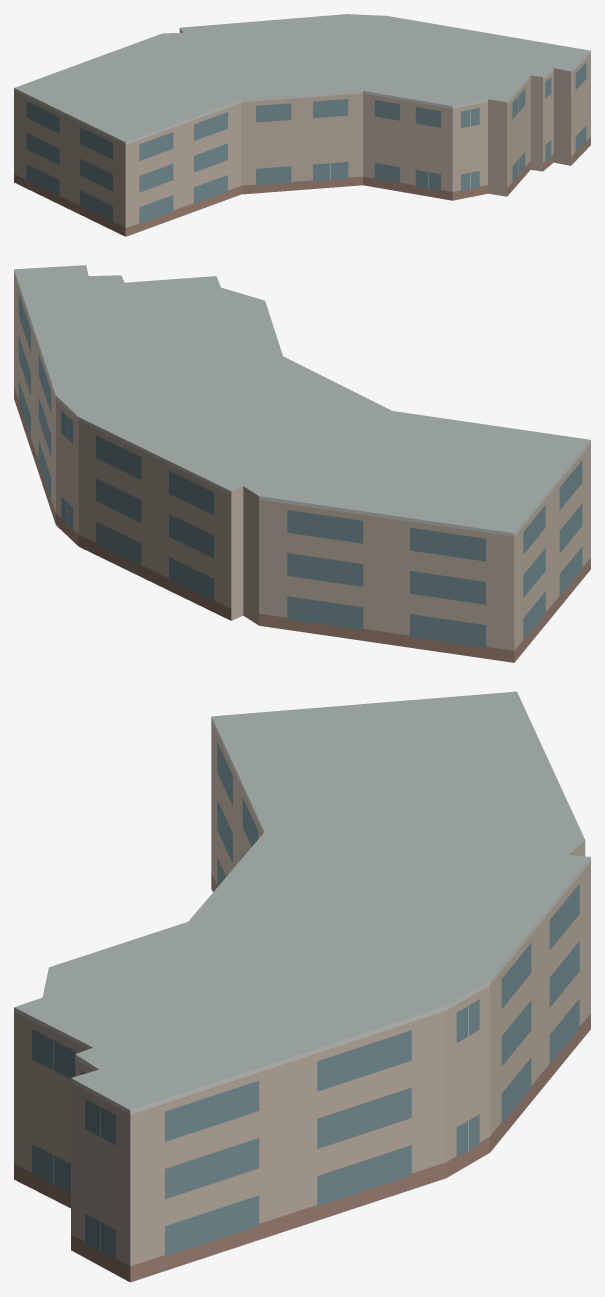
File: survey-upis-32838868.glb
The picture shows the model from 3 angles, top to bottom: view 1: azimuth 30°, elevation 25°; view 2: azimuth 150°, elevation 25°; view 3: azimuth 270°, elevation 25°; orthographic projection. The views are drawn at different scales.
Visible parts, largest first — view 1: survey-upis-32838868.tmp; view 2: survey-upis-32838868.tmp; view 3: survey-upis-32838868.tmp.
Part boxes in pixels (<box>): survey-upis-32838868.tmp: <box>14,14,590,236</box>; survey-upis-32838868.tmp: <box>14,265,590,662</box>; survey-upis-32838868.tmp: <box>14,691,590,1282</box>.
Bounding box in the file's own units: 47.74 × 9.15 × 27.79.
